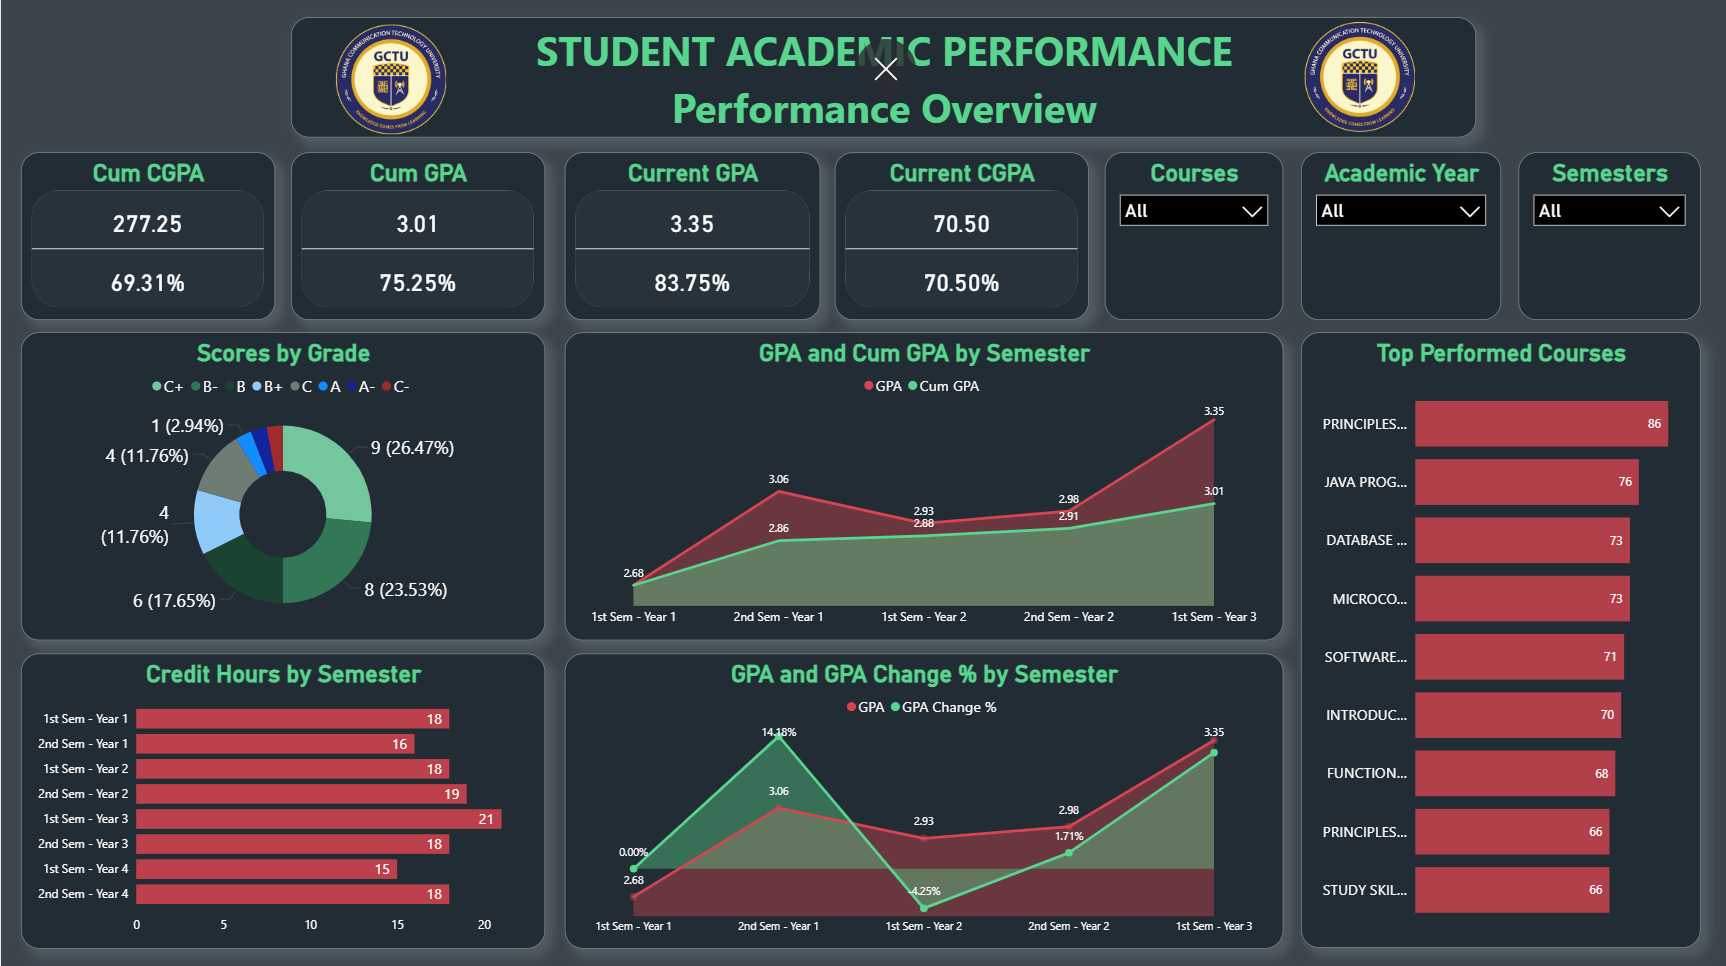

What the dashboard file says about the page in this screenshot:
{"tool":"powerbi","page":{"name":"Academic Performance Overview","canvas":[1920,1080],"ordinal":0},"visuals":[{"type":"lineChart","title":"GPA and Cum GPA by Semester","fields":{"Category":["PROJECT_DIMESION.SemesterYear"],"Y":["Sum(GPA_Dimension.GPA)","Sum(GPA_Dimension.Cumulatuve_GPA)"]},"box":[626,374,798,342],"z":0},{"type":"slicer","title":"Courses","fields":{"Values":["GradeProjectFact.Courses_Tittle"]},"box":[1226,174,198,186],"z":1000},{"type":"slicer","title":"Semesters","fields":{"Values":["PROJECT_DIMESION.SemesterYear"]},"box":[1686,174,202,186],"z":2000},{"type":"cardVisual","title":"Current CGPA","fields":{"Data":["Table.Current CGPA","Table.CGPA %"]},"box":[926,174,282,186],"z":3000},{"type":"cardVisual","title":"Cum CGPA","fields":{"Data":["Table.Cum_CGPA","Table.Cum_CGPA %"]},"box":[22,174,282,186],"z":4000},{"type":"cardVisual","title":"Current GPA","fields":{"Data":["Table.Current GPA","Table.GPA %"]},"box":[626,174,284,186],"z":5000},{"type":"donutChart","title":"Scores by Grade","fields":{"Category":["GradeProjectFact.Grade"],"Y":["CountNonNull(GradeProjectFact.Scores)"]},"box":[22,374,582,342],"z":6000},{"type":"clusteredBarChart","title":"Credit Hours by Semester","fields":{"Category":["PROJECT_DIMESION.SemesterYear"],"Y":["Table.Total Crdit Hours"]},"box":[22,730,582,328],"z":7000},{"type":"barChart","title":"Top Performed Courses","fields":{"Category":["GradeProjectFact.Courses_Tittle"],"Y":["Sum(GradeProjectFact.Scores)"]},"box":[1444,374,444,684],"z":8000},{"type":"lineChart","title":"GPA and GPA Change % by Semester","fields":{"Category":["PROJECT_DIMESION.SemesterYear"],"Y":["Sum(GPA_Dimension.GPA)"],"Y2":["Table.GPA Change %"]},"box":[626,730,798,328],"z":9000},{"type":"shape","title":"STUDENT ACADEMIC PERFORMANCE ","box":[378,24,1260,132],"z":10000},{"type":"image","box":[378,24,258,132],"z":11000},{"type":"cardVisual","title":"Cum GPA","fields":{"Data":["Table.Cum_GPA","Table.Cum_GPA %"]},"box":[322,174,282,186],"z":12000},{"type":"slicer","title":"Academic Year","fields":{"Values":["PROJECT_DIMESION.Academic_Year"]},"box":[1444,174,222,186],"z":13000},{"type":"image","box":[1380,24,258,132],"z":14000}]}

Visuals, with their boxes in screenshot pixels (x1, y1, x2, y2), scaled from the page's 1920x1080 canvas onto the 1726x966 screenshot:
"GPA and Cum GPA by Semester" lineChart: bbox(563, 335, 1280, 640)
"Courses" slicer: bbox(1102, 156, 1280, 322)
"Semesters" slicer: bbox(1516, 156, 1697, 322)
"Current CGPA" cardVisual: bbox(832, 156, 1086, 322)
"Cum CGPA" cardVisual: bbox(20, 156, 273, 322)
"Current GPA" cardVisual: bbox(563, 156, 818, 322)
"Scores by Grade" donutChart: bbox(20, 335, 543, 640)
"Credit Hours by Semester" clusteredBarChart: bbox(20, 653, 543, 946)
"Top Performed Courses" barChart: bbox(1298, 335, 1697, 946)
"GPA and GPA Change % by Semester" lineChart: bbox(563, 653, 1280, 946)
"STUDENT ACADEMIC PERFORMANCE " shape: bbox(340, 21, 1472, 140)
image: bbox(340, 21, 572, 140)
"Cum GPA" cardVisual: bbox(289, 156, 543, 322)
"Academic Year" slicer: bbox(1298, 156, 1498, 322)
image: bbox(1241, 21, 1472, 140)
